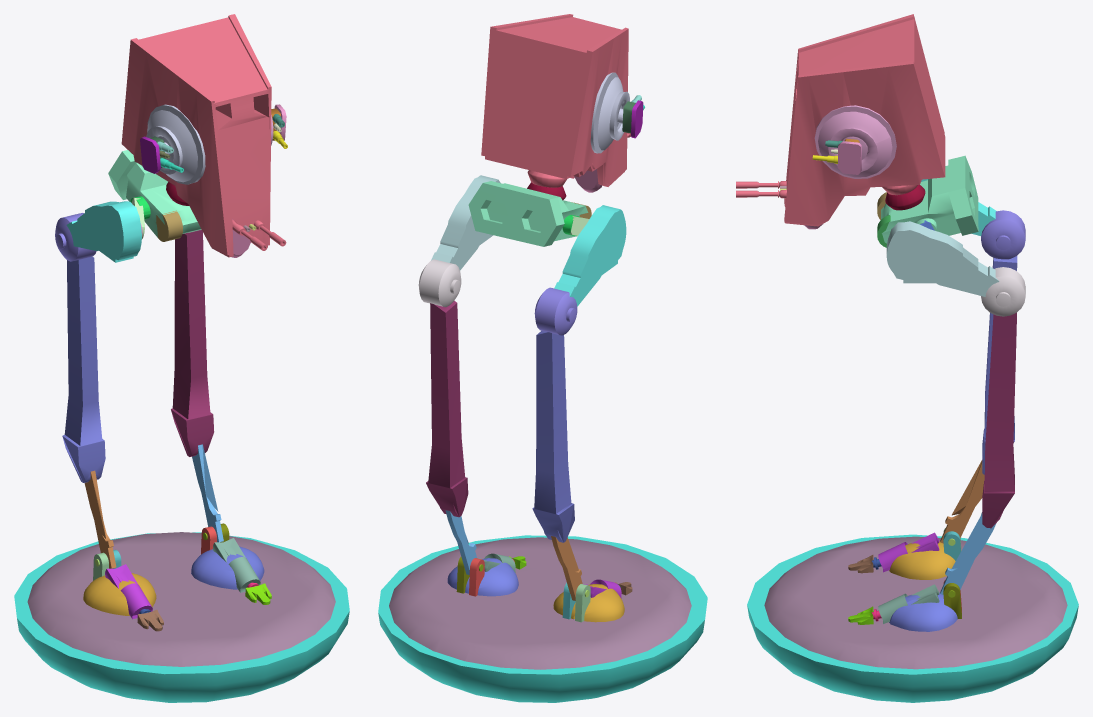
3 renders of one model, left to right at view 1: azimuth 30°, elevation 25°; view 2: azimuth 150°, elevation 25°; view 3: azimuth 270°, elevation 25°, orthographic.
Visible parts, largest first — view 1: Object_3.249, split_parent_0, Object_3.061, Object_4.643, Object_3.460, Object_2.012, split_parent_40, Object_3.040, split_parent_36, Object_3.076, Object_4.655, split_parent_9 (+5 smaller); view 2: Object_3.249, split_parent_0, Object_3.061, Object_3.460, Object_4.643, split_parent_40, Object_2.012, Object_2.006, Object_3.040, Object_3.007, Object_3.001, split_parent_36 (+3 smaller); view 3: Object_3.249, split_parent_0, Object_3.061, Object_4.643, Object_2.006, split_parent_40, Object_3.068, split_parent_36, Object_3.001, Object_3.076, Object_3.007, Object_4.655 (+6 smaller).
Part boxes in pixels (x1,y1,x2,y2): Object_3.249: [27, 532, 335, 666]; split_parent_0: [121, 14, 286, 257]; Object_3.061: [14, 532, 349, 702]; Object_4.643: [171, 230, 214, 456]; Object_3.460: [62, 256, 105, 482]; Object_2.012: [66, 201, 141, 262]; split_parent_40: [108, 150, 200, 237]; Object_3.040: [146, 104, 205, 184]; split_parent_36: [191, 546, 264, 589]; Object_3.076: [83, 573, 156, 615]; Object_4.655: [192, 444, 223, 542]; split_parent_9: [105, 564, 152, 619]; Object_3.249: [389, 537, 691, 669]; split_parent_0: [481, 14, 630, 187]; Object_3.061: [378, 535, 707, 702]; Object_3.460: [532, 330, 574, 542]; Object_4.643: [426, 300, 468, 517]; split_parent_40: [468, 181, 588, 246]; Object_2.012: [554, 205, 626, 306]; Object_2.006: [431, 175, 500, 270]; Object_3.040: [590, 72, 629, 153]; Object_3.007: [418, 259, 461, 307]; Object_3.001: [534, 287, 577, 335]; split_parent_36: [447, 558, 518, 596]; Object_3.249: [764, 536, 1067, 669]; split_parent_0: [736, 14, 945, 226]; Object_3.061: [747, 534, 1078, 702]; Object_4.643: [982, 312, 1016, 528]; Object_2.006: [886, 221, 999, 296]; split_parent_40: [881, 155, 978, 243]; Object_3.068: [814, 105, 896, 178]; split_parent_36: [889, 592, 957, 631]; Object_3.001: [981, 210, 1025, 259]; Object_3.076: [889, 541, 955, 579]; Object_3.007: [981, 267, 1025, 316]; Object_4.655: [940, 512, 996, 594].
Bounding box in the file's own units: 0.4742 × 1 × 0.4899.
